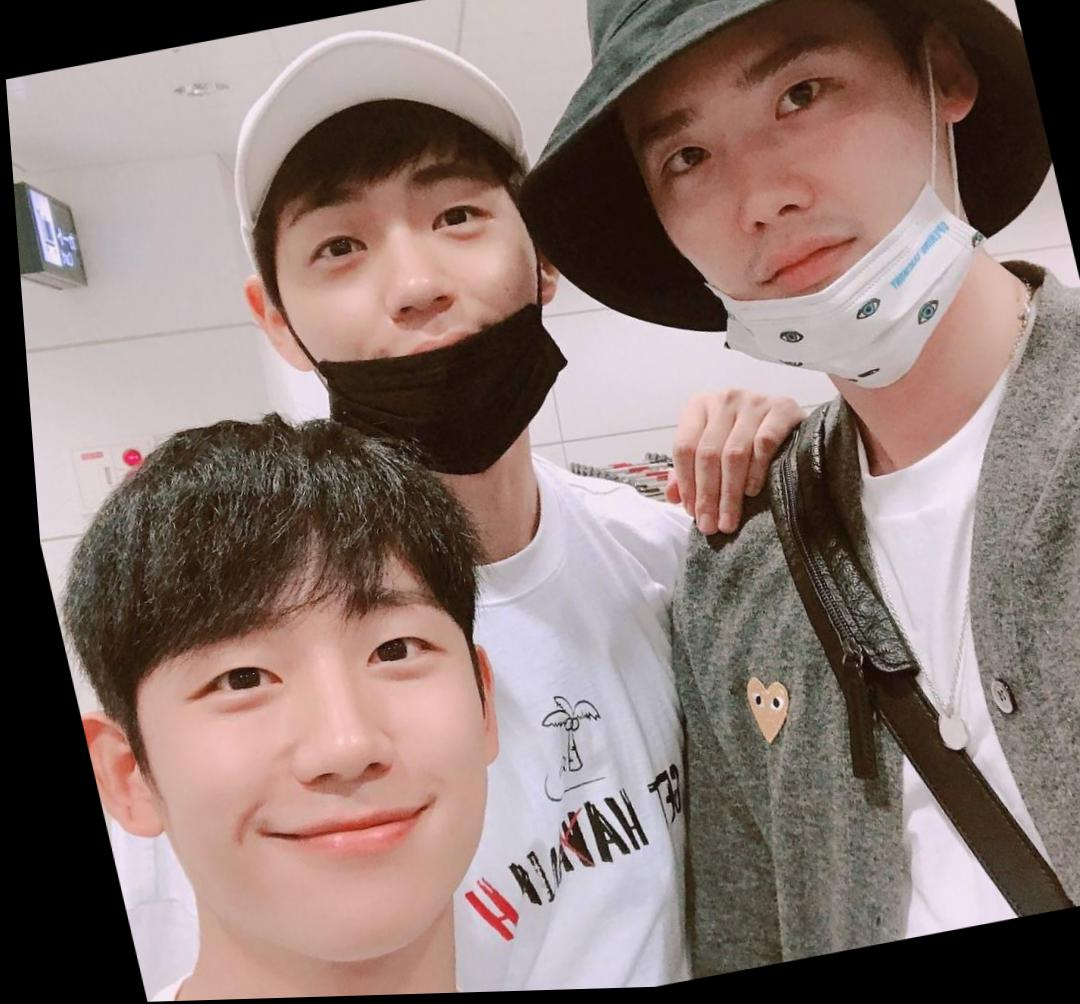NONE: (125, 583, 513, 985)
WRONG: (611, 45, 1000, 393), (259, 145, 581, 456)
